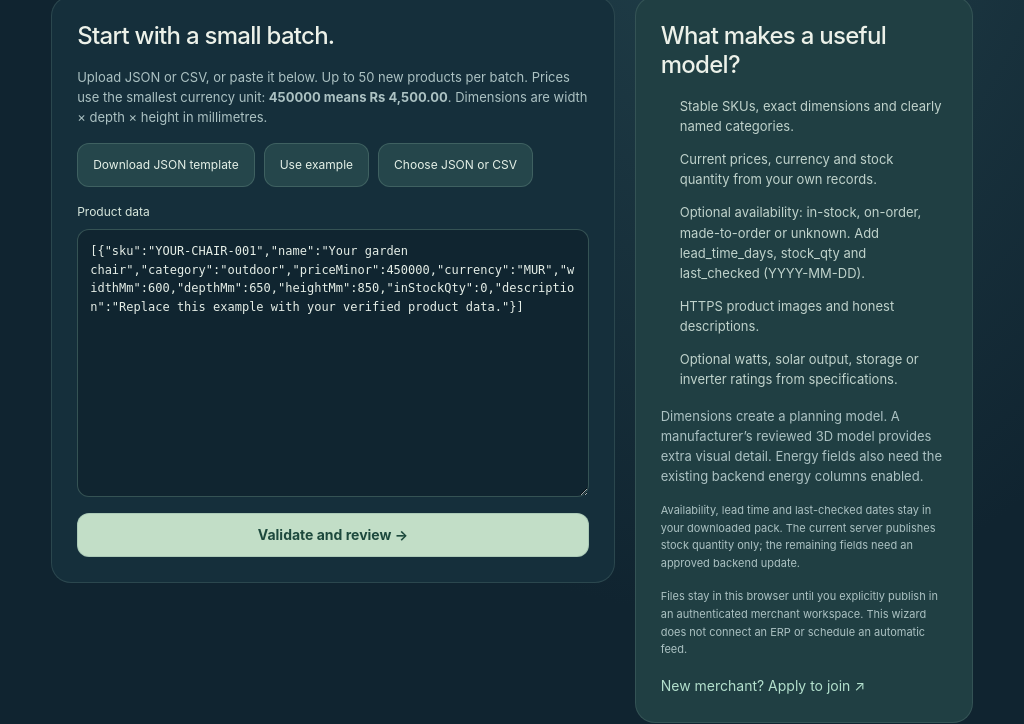
Test: merchant connection preparation › retains preparation-only mode on a preview even with a merchant session
(page scrolled)
Click the button "Validate and review →": click(333, 535) [77,513,589,557]
(page scrolled)
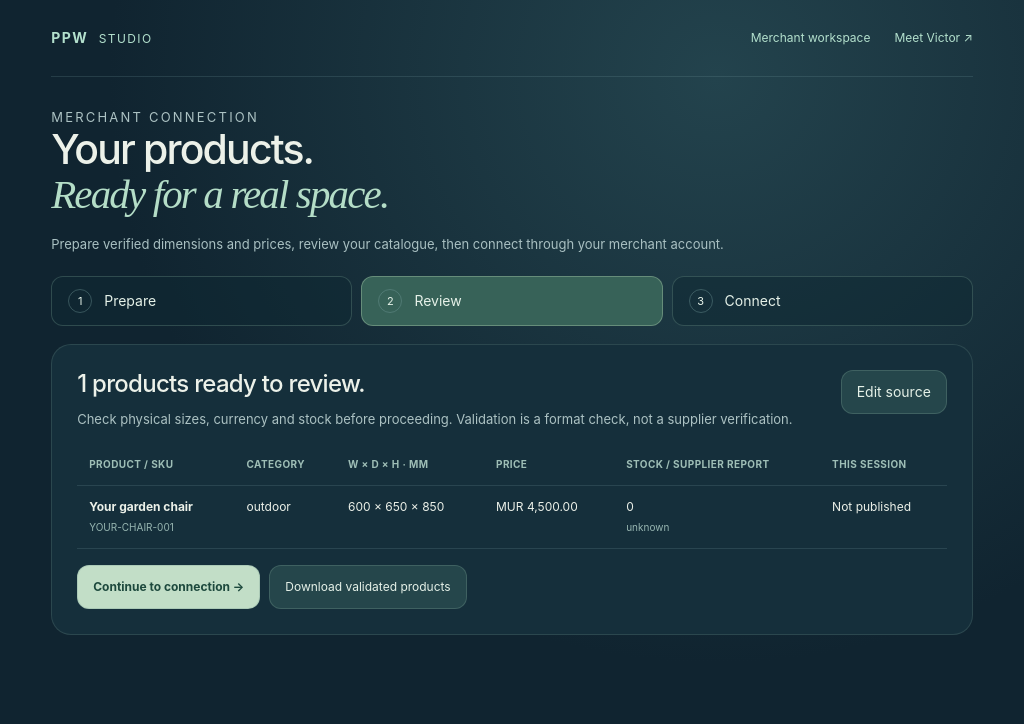
Click the button "Continue to connection →": click(169, 587) [77,565,260,609]
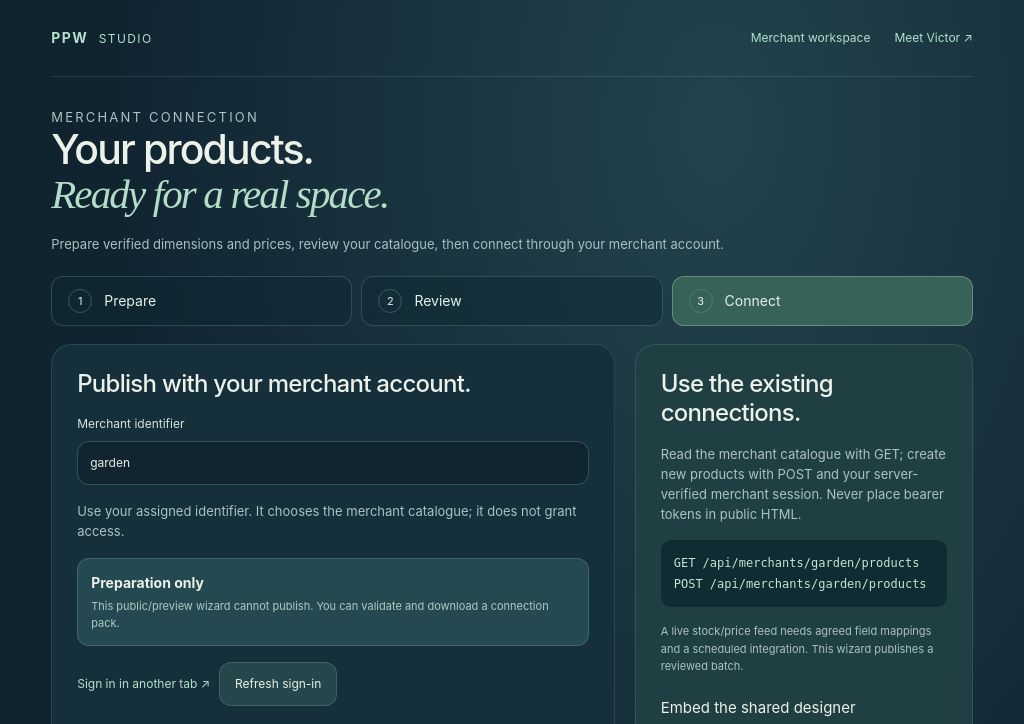
Expected: the text "Preparation only" is shown, [91,574,204,590]
